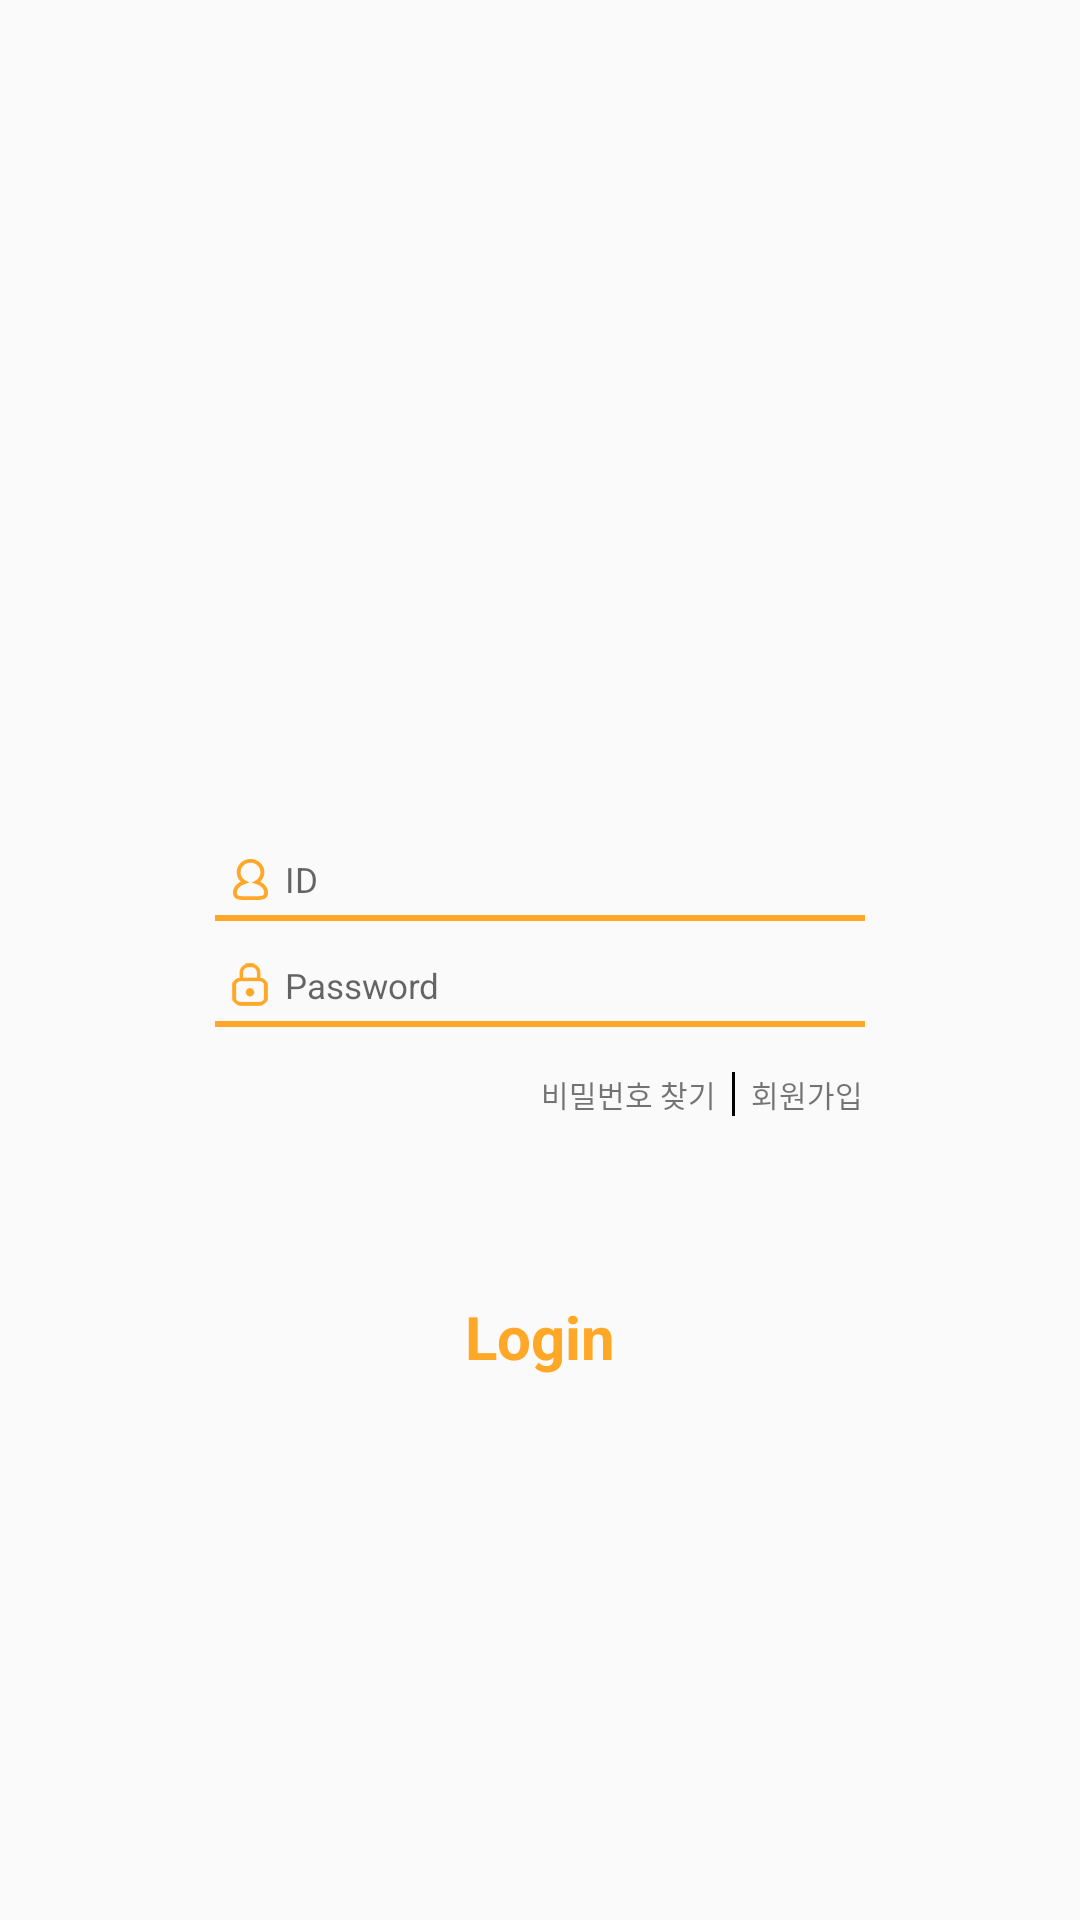

Locate icon controls on the screen. Image size 1080*1920, boxes as (x1, y1, x2, y2).
login lock: (232, 963, 268, 1006)
login name: (233, 859, 268, 900)
